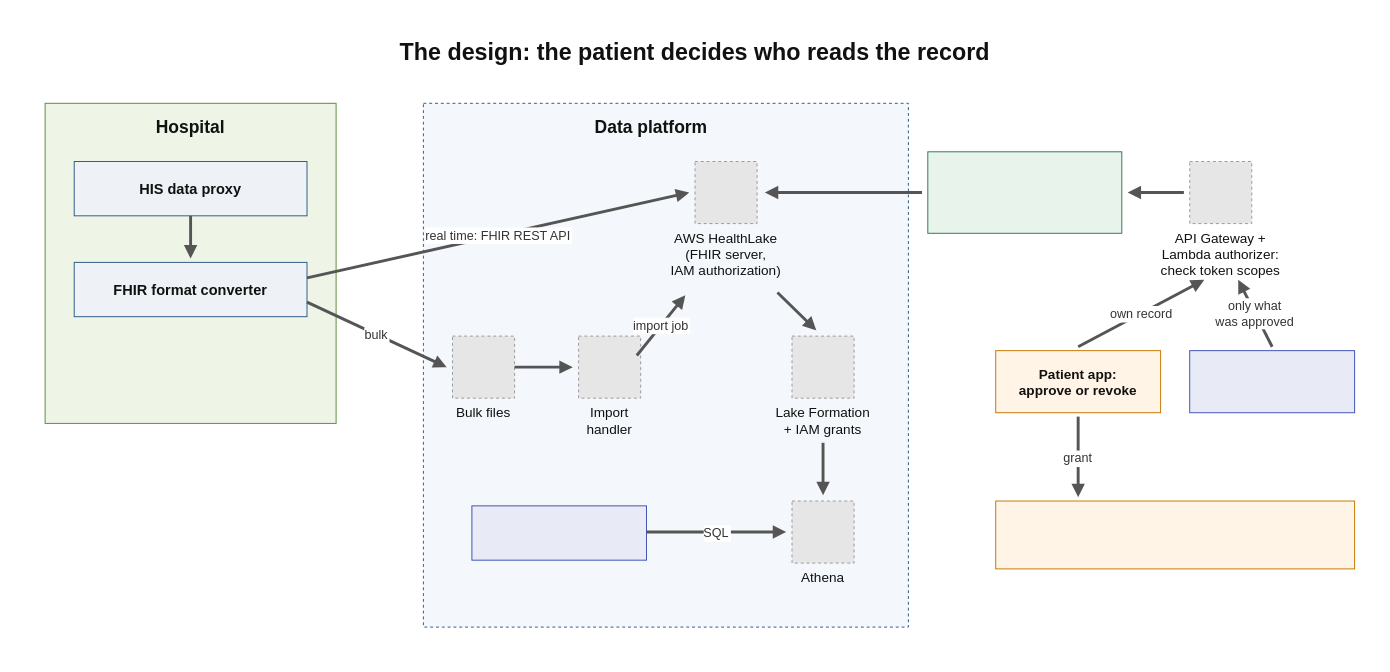
The diagram is 1390 pixels wide and 672 high, and some of its shapes have lost their labels. Grey dashed boxes stand in for pictures. The box of each missing label's shape, as (x1, y1, x2, y2) in pixels:
Data scientists: (471, 505, 647, 560)
Identity provider: sign-in, and OAuth scopes from the patient's grants: (995, 500, 1355, 569)
Partners: other providers, insurer, research: (1189, 350, 1355, 413)
REST endpoint: sign with IAM role; check the approval (proposed): (927, 151, 1122, 233)
